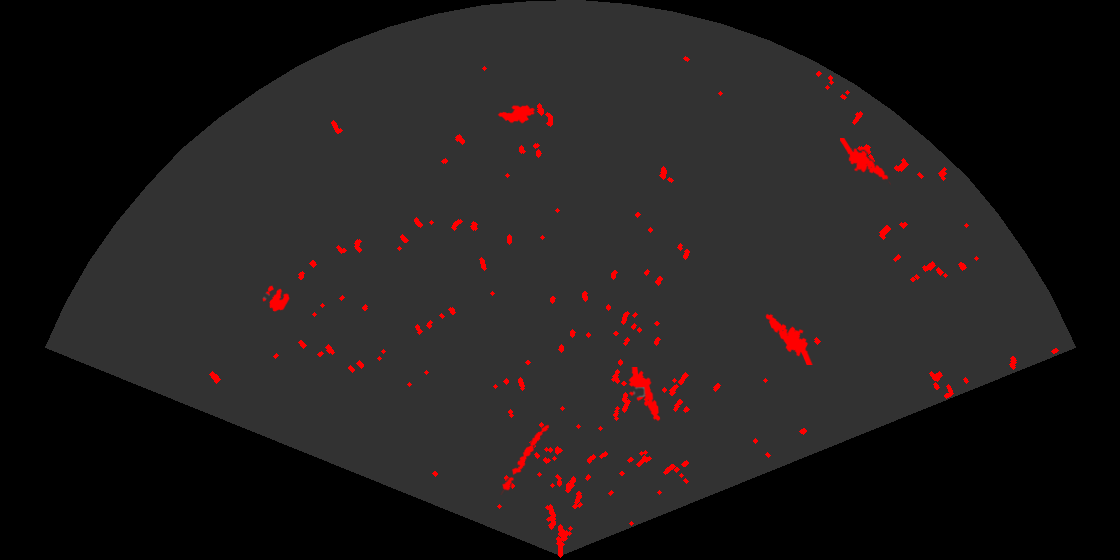AUV: (496, 103, 537, 125)
ball: (261, 284, 291, 313)
chain: (499, 423, 551, 495)
frogman: (764, 312, 814, 365), (840, 138, 891, 186), (627, 367, 662, 423)
